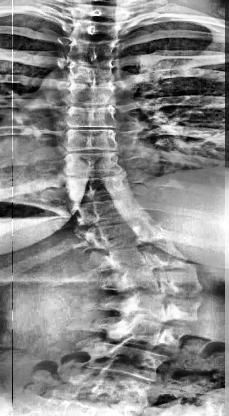Vertebrae: (83, 340, 171, 386), (104, 262, 206, 298), (104, 314, 192, 352), (78, 214, 165, 252), (100, 239, 190, 275), (114, 289, 204, 323), (69, 193, 144, 228), (64, 171, 134, 203), (63, 122, 121, 154), (63, 148, 124, 178), (64, 36, 122, 66), (63, 100, 120, 130), (67, 16, 123, 42), (66, 80, 118, 108), (63, 62, 119, 86)
